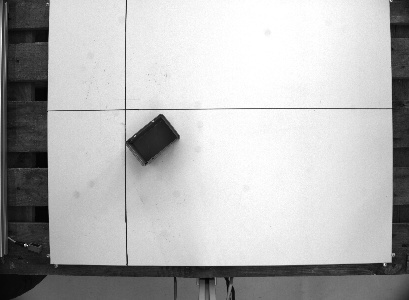kltxs: (119, 111, 184, 171)
